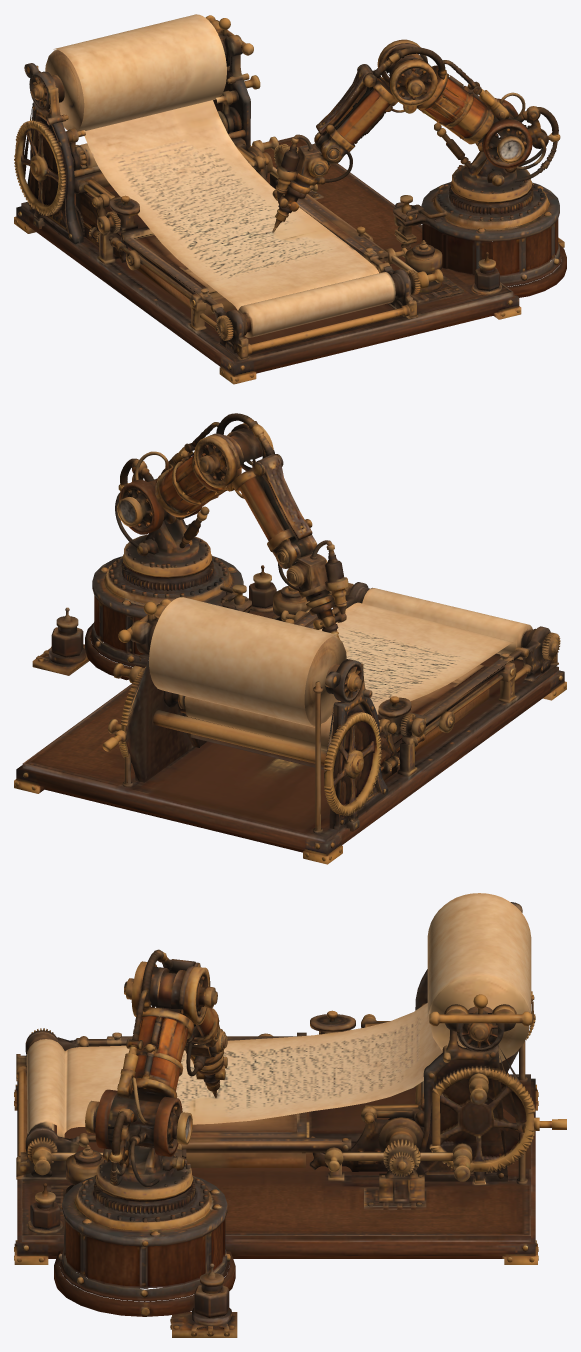
Rendered from steampunk_drafting_machine_tripo.glb.
3 views of the same model, one above another, from view 1: azimuth 30°, elevation 25°; view 2: azimuth 150°, elevation 25°; view 3: azimuth 270°, elevation 25° (orthographic). The views are drawn at different scales.
Visible parts, largest first — view 1: a9d356bb_566b_4a1d_8b91_39121c953635; view 2: a9d356bb_566b_4a1d_8b91_39121c953635; view 3: a9d356bb_566b_4a1d_8b91_39121c953635.
Part boxes in pixels (x1,y1,x2,y2): a9d356bb_566b_4a1d_8b91_39121c953635: [14, 14, 566, 384]; a9d356bb_566b_4a1d_8b91_39121c953635: [14, 413, 566, 864]; a9d356bb_566b_4a1d_8b91_39121c953635: [14, 893, 566, 1337].
Bounding box in the file's own units: 0.9995 × 0.5786 × 0.9956.
Materials: 1 (1 with a texture image).
